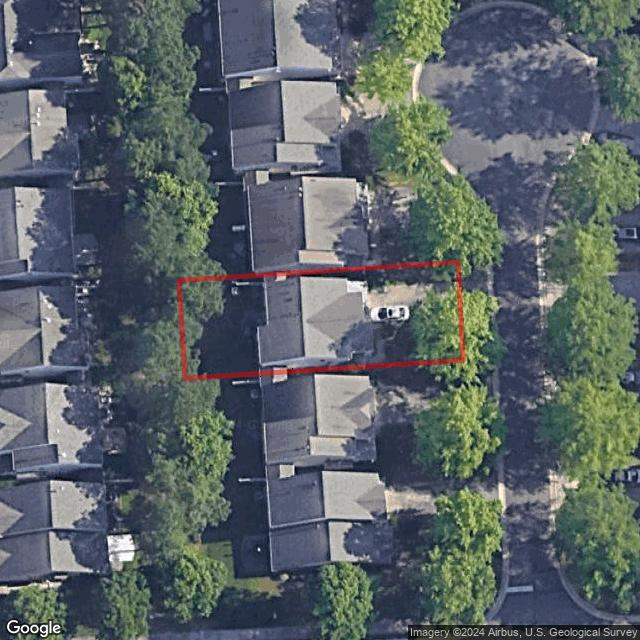Driveway: (366, 282, 463, 322)
Extra-Driveway: (460, 282, 487, 317)
Extra-Lawn: (461, 317, 488, 362), (456, 261, 481, 286)
House: (256, 276, 372, 370)
Lawn: (180, 262, 464, 379)
Sidewalk: (353, 319, 408, 361)
